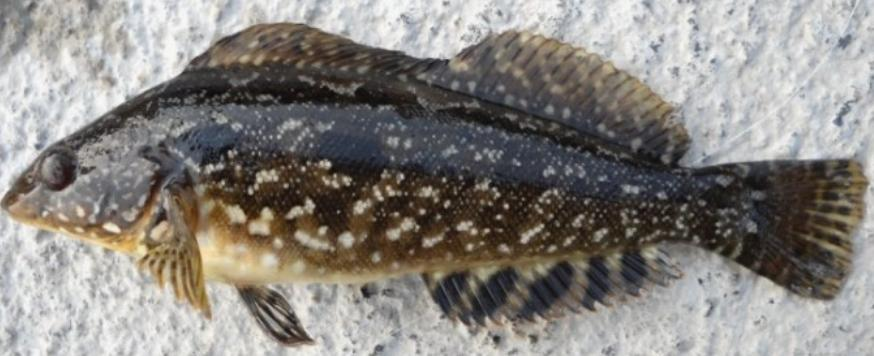fish: (2, 22, 866, 342)
